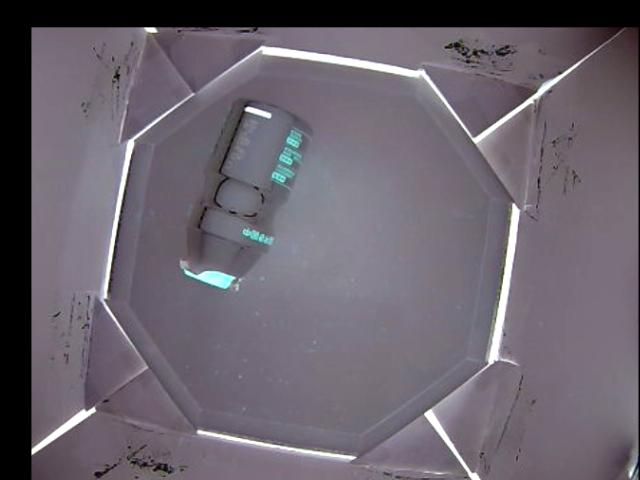Bottle: (179, 95, 316, 291)
